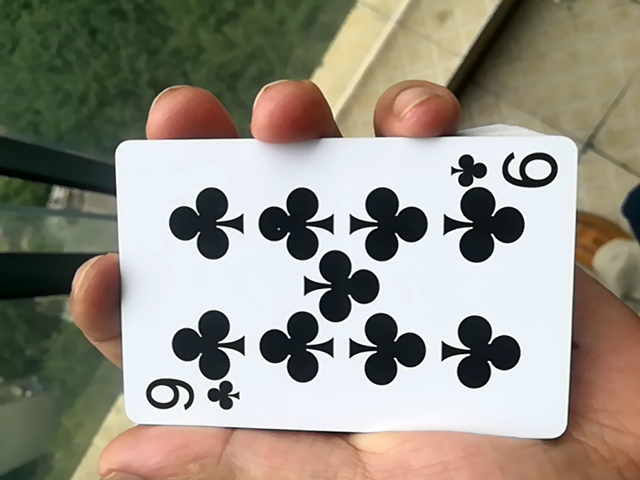mh 9: (105, 135, 572, 444)
